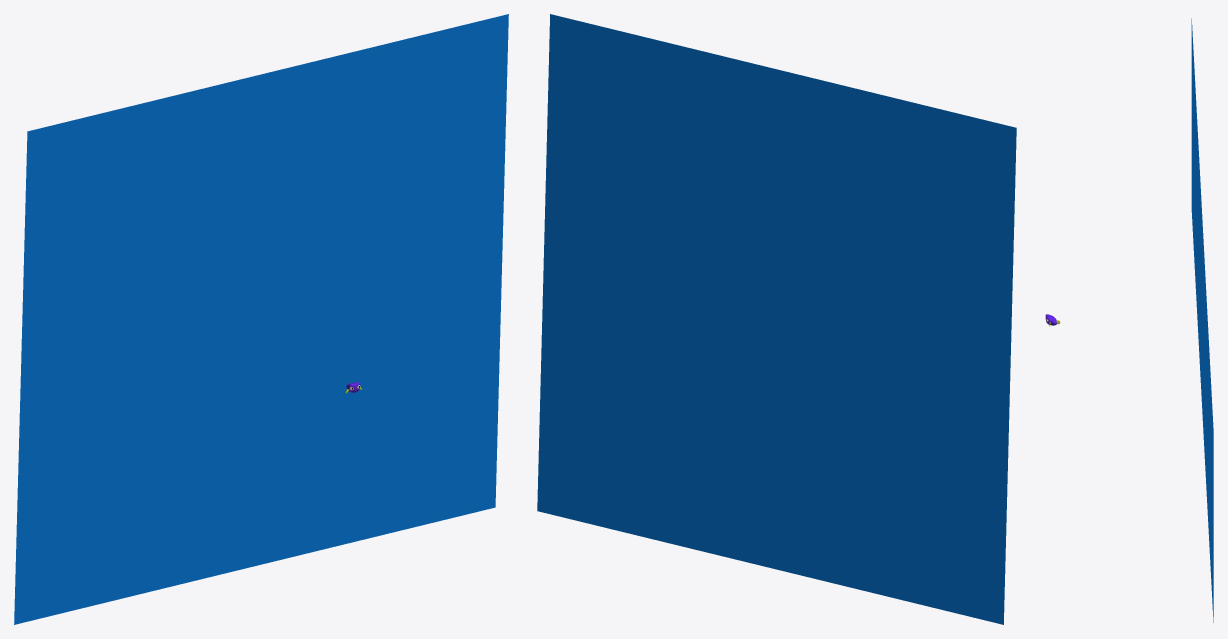
File: sandfrog.glb
The picture shows the model from 3 angles, left to right: view 1: azimuth 30°, elevation 25°; view 2: azimuth 150°, elevation 25°; view 3: azimuth 270°, elevation 25°; orthographic projection. The views are drawn at different scales.
Parts seen in each view (by area): view 1: Plane; view 2: Plane; view 3: Plane.
Boxes of the visible parts, left/top/right/bottom form: Plane: left=14, top=14, right=508, bottom=624; Plane: left=537, top=14, right=1016, bottom=624; Plane: left=1191, top=18, right=1213, bottom=622.
Bounding box in the file's own units: 85.27 × 85.17 × 31.17.
